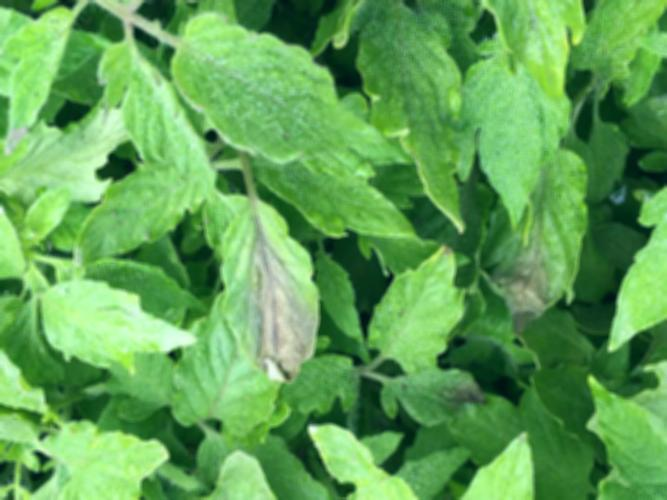Tomato mold leaf: (168, 15, 408, 163), (354, 5, 488, 238), (193, 191, 339, 381), (76, 28, 240, 190), (485, 136, 594, 334), (71, 160, 233, 269), (467, 41, 547, 232), (37, 283, 216, 357), (358, 253, 462, 372)
